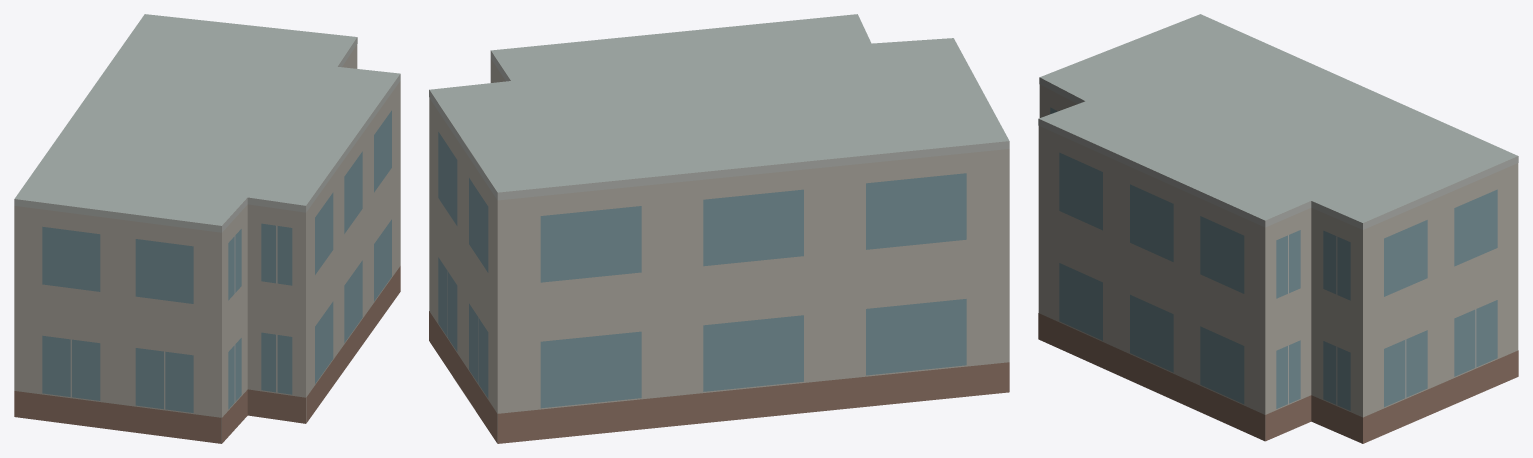
The model's file is survey-upis-32626555.glb.
3 views of the same model, side by side, from view 1: azimuth 30°, elevation 25°; view 2: azimuth 150°, elevation 25°; view 3: azimuth 270°, elevation 25° (orthographic). The views are drawn at different scales.
Visible parts, largest first — view 1: survey-upis-32626555.tmp; view 2: survey-upis-32626555.tmp; view 3: survey-upis-32626555.tmp.
Boxes of the visible parts, x1,y1,x2,y2 form: survey-upis-32626555.tmp: (14,14,400,443); survey-upis-32626555.tmp: (429,14,1009,443); survey-upis-32626555.tmp: (1038,14,1518,443).
Size of the model in its own units: 15.86 by 7.8 by 15.37.
